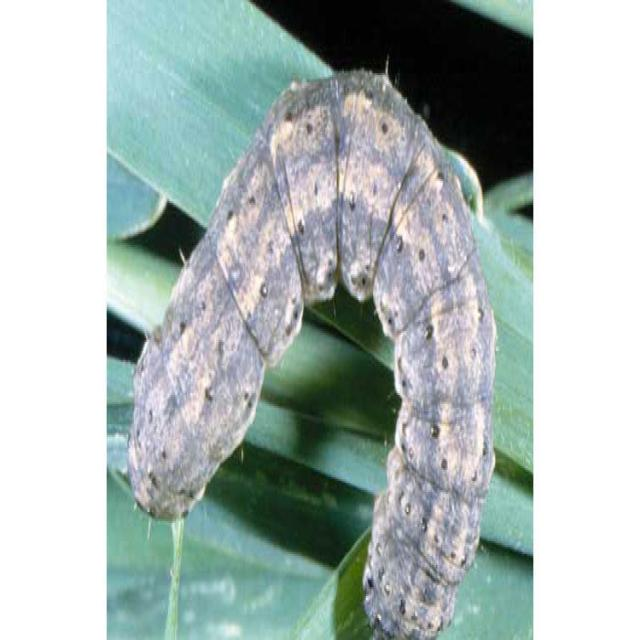Cutworm: (119, 60, 498, 640)
